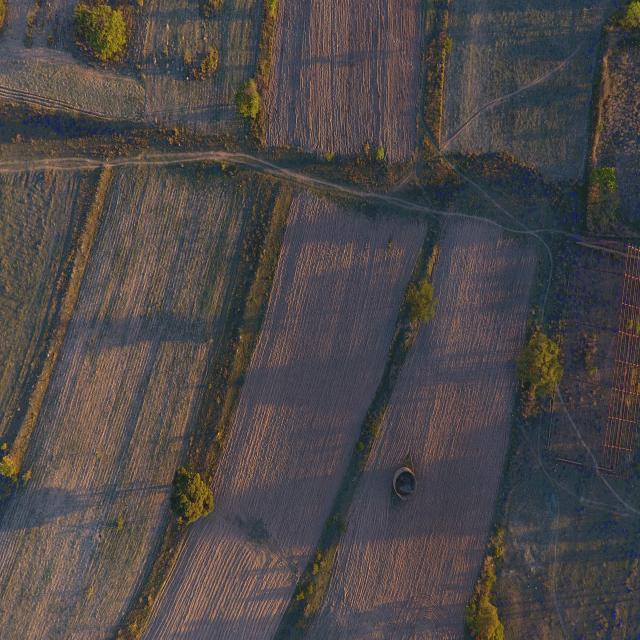boundaries: (110, 170, 314, 624), (275, 219, 458, 633)
